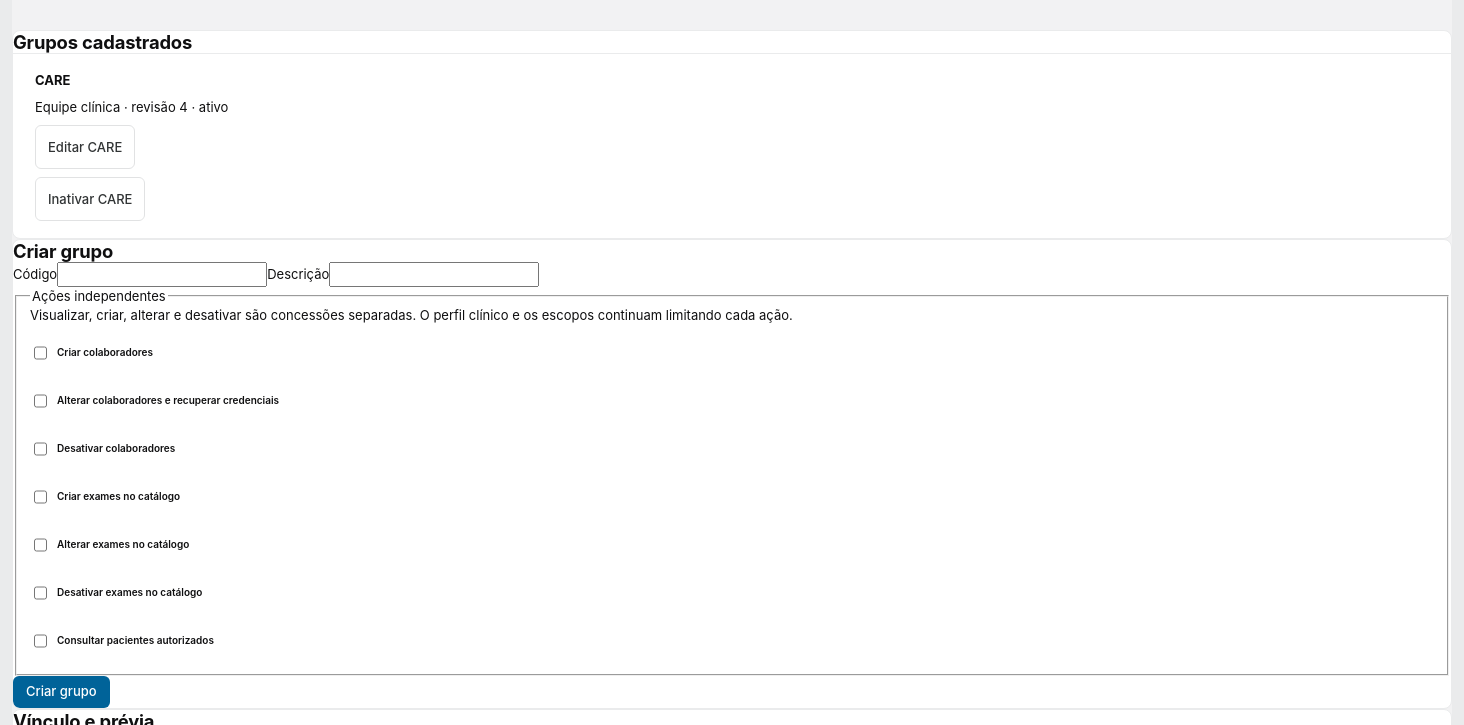
Scenario: access group editor and effective preview › deactivates and reactivates the group using each returned revision without changing the registered users
The image size is (1464, 725).
Click the button "Inativar CARE": click(90, 199) [35,177,146,221]
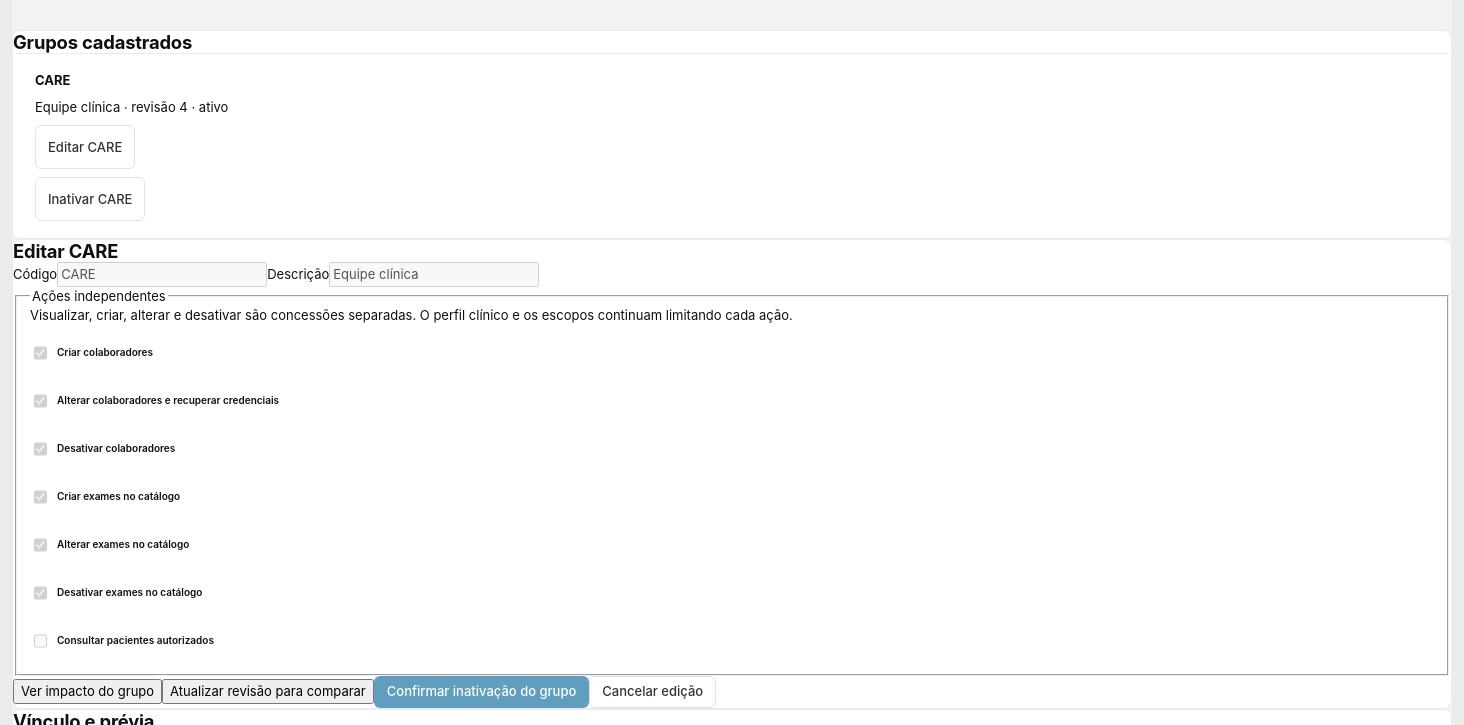
Click the button "Ver impacto do grupo": click(88, 692) [13,679,162,704]
(page scrolled)
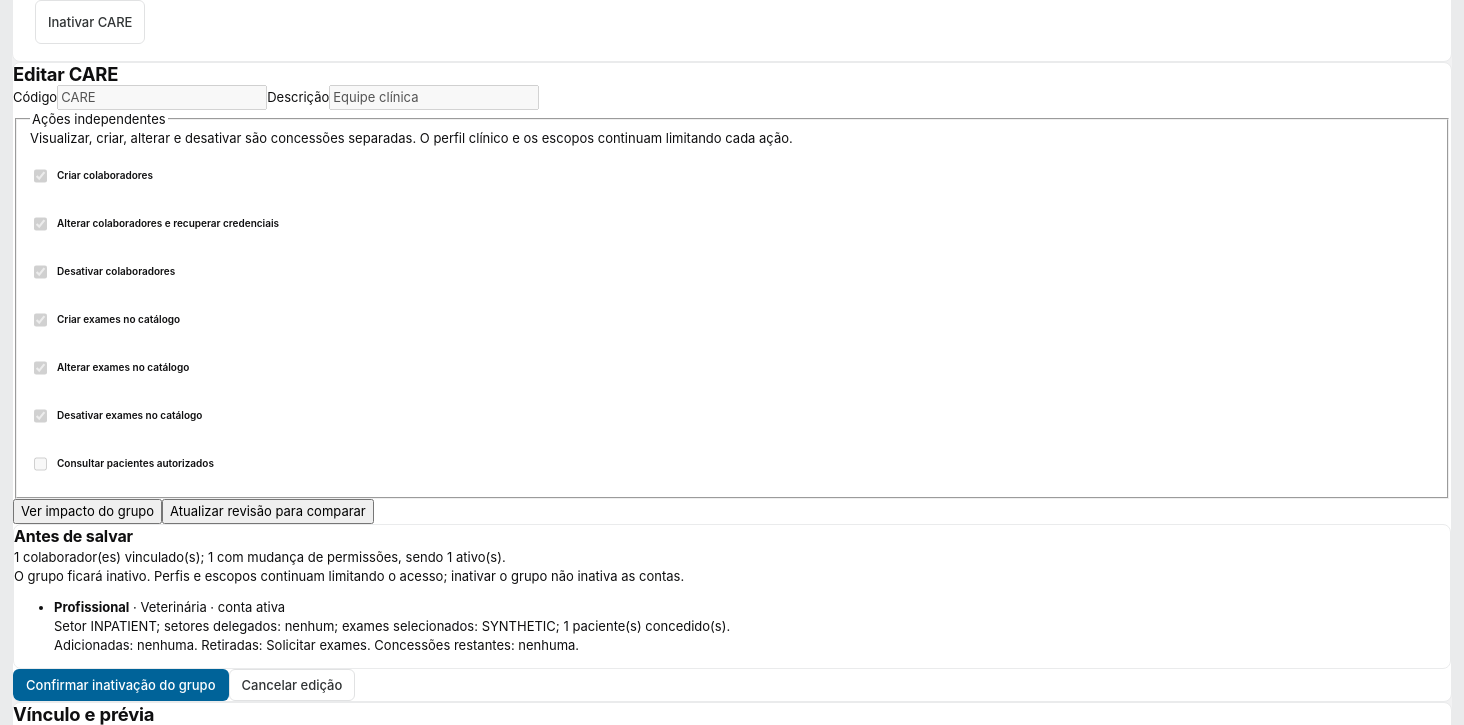
Expected: the element named "Impacto previsto do grupo" is shown, [13,524,1451,669]
Expected: the button "Confirmar inativação do grupo" is enabled
Click the button "Confirmar inativação do grupo": click(121, 685) [13,669,228,701]
(page scrolled)
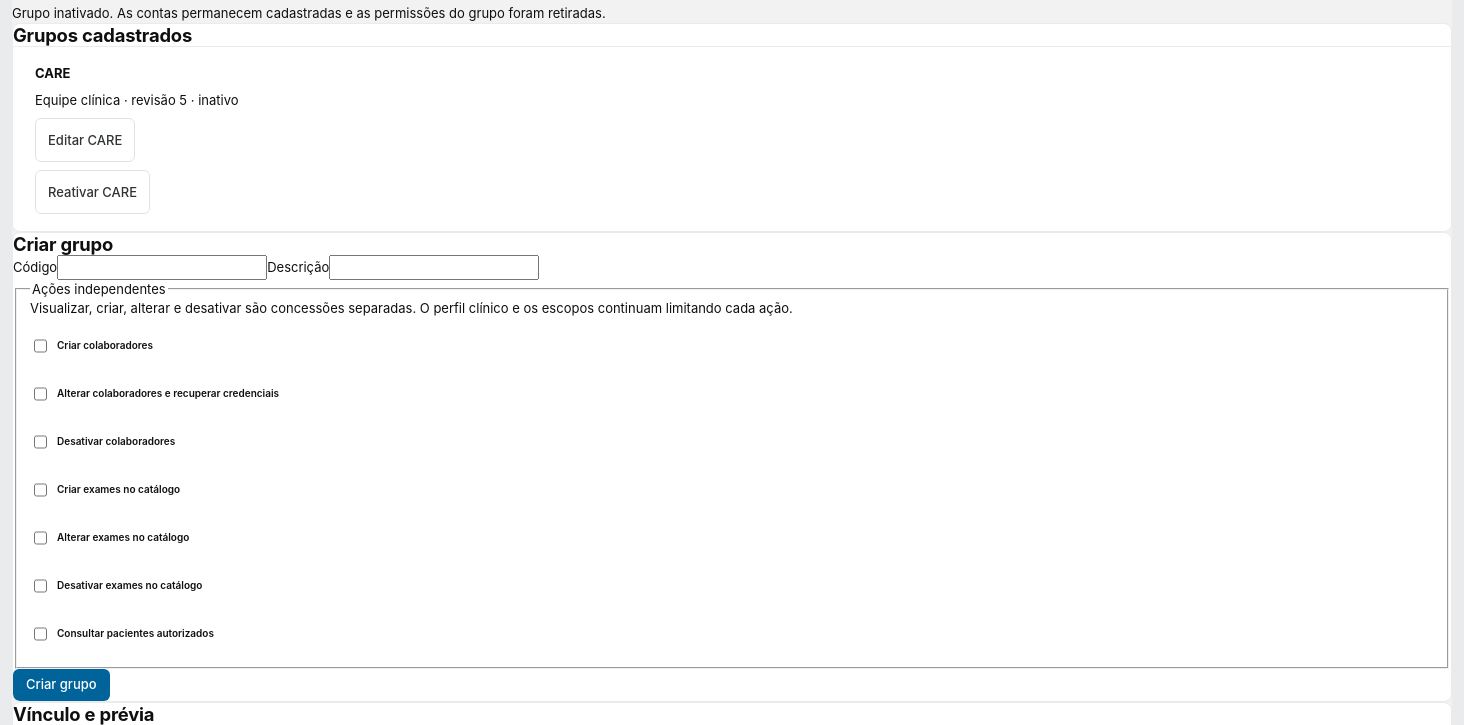
Expected: the text "As contas permanecem cadastradas" is shown, [12,5,606,21]
Click the button "Reativar CARE": click(93, 192) [35,170,150,214]
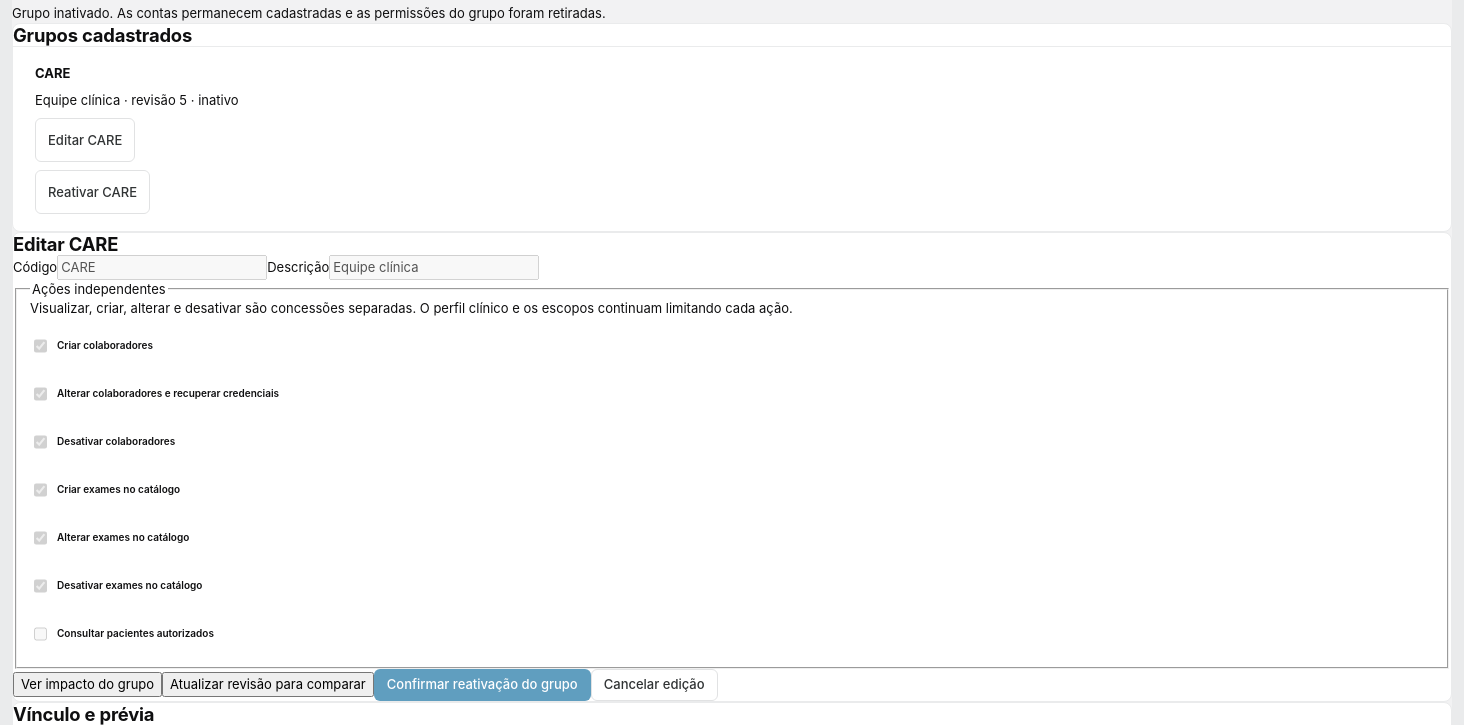
Click the button "Ver impacto do grupo": click(88, 685) [13,672,162,697]
(page scrolled)
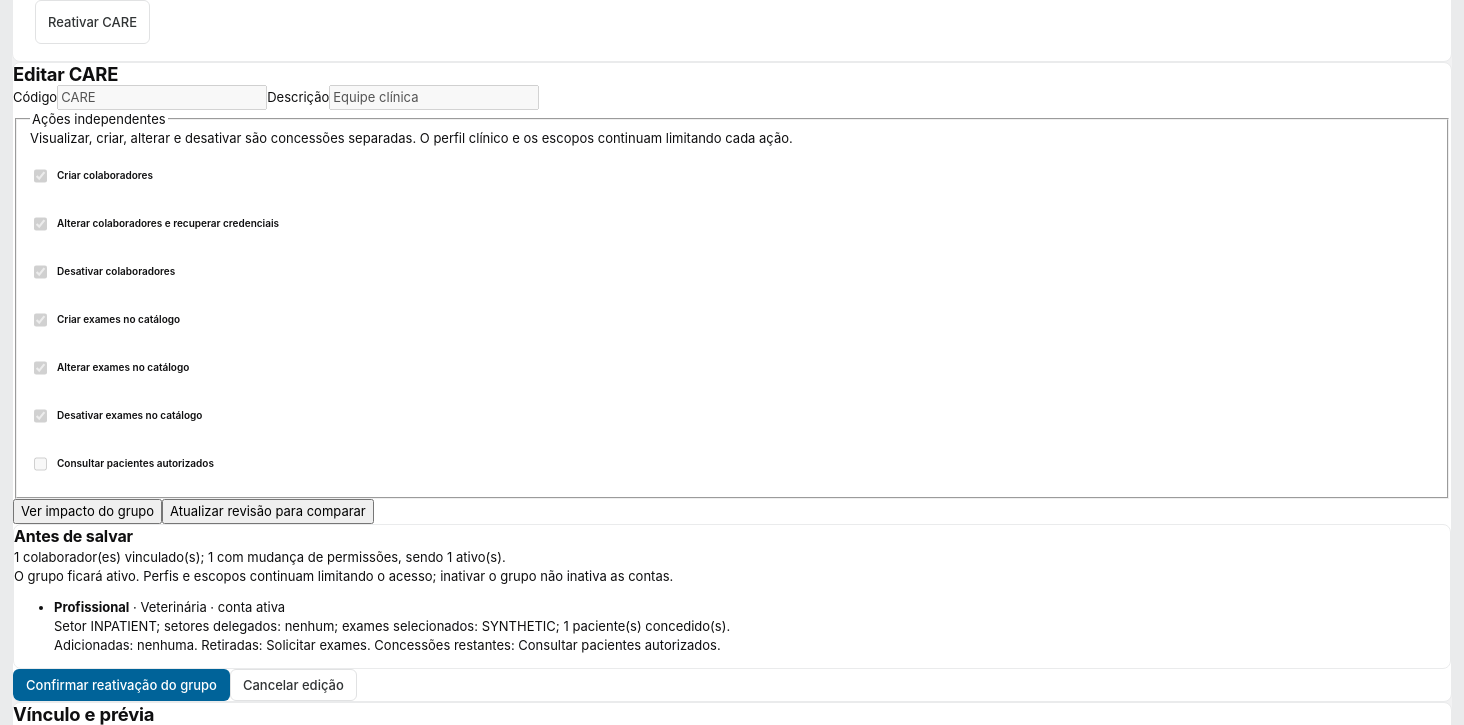
Expected: the element named "Impacto previsto do grupo" is shown, [13,524,1451,669]
Expected: the button "Confirmar reativação do grupo" is enabled
Click the button "Confirmar reativação do grupo": click(121, 685) [13,669,230,701]
(page scrolled)
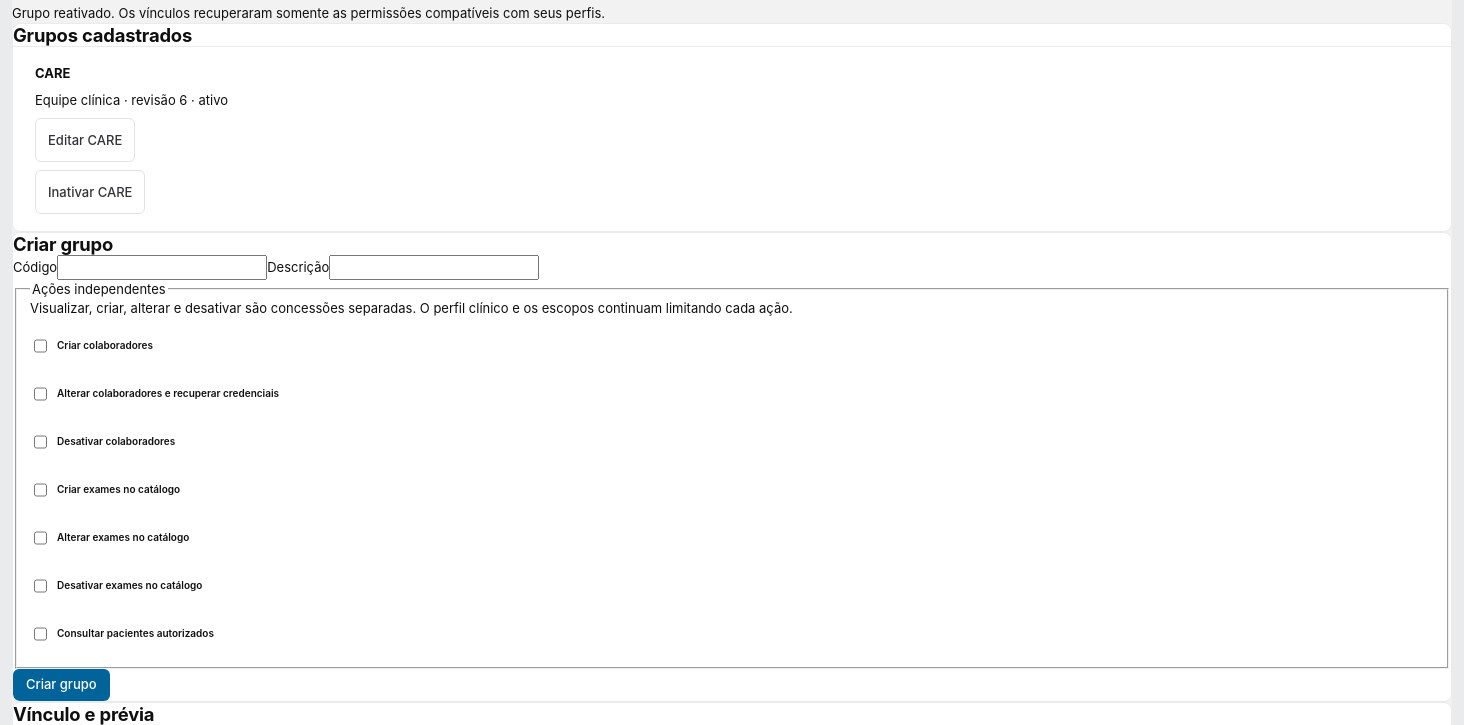
Expected: the text "somente as permissões compatíveis" is shown, [12,5,605,21]
